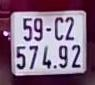2: (70, 42, 83, 69), (66, 15, 76, 41)
4: (40, 43, 52, 70)
5: (14, 42, 26, 70), (21, 15, 33, 42)
7: (29, 42, 39, 71)
9: (33, 14, 45, 44), (57, 44, 69, 70)
C: (53, 17, 65, 44)
